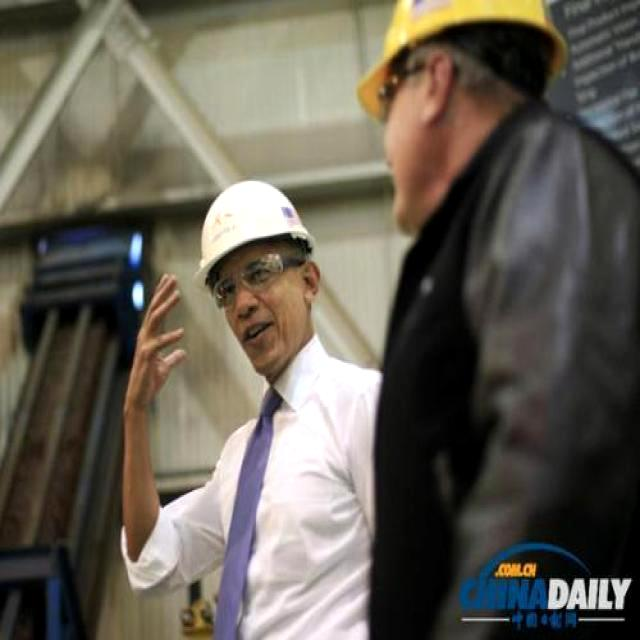hard_hat: (357, 0, 568, 126), (195, 182, 314, 287)
person: (351, 0, 639, 638), (114, 170, 383, 638)
